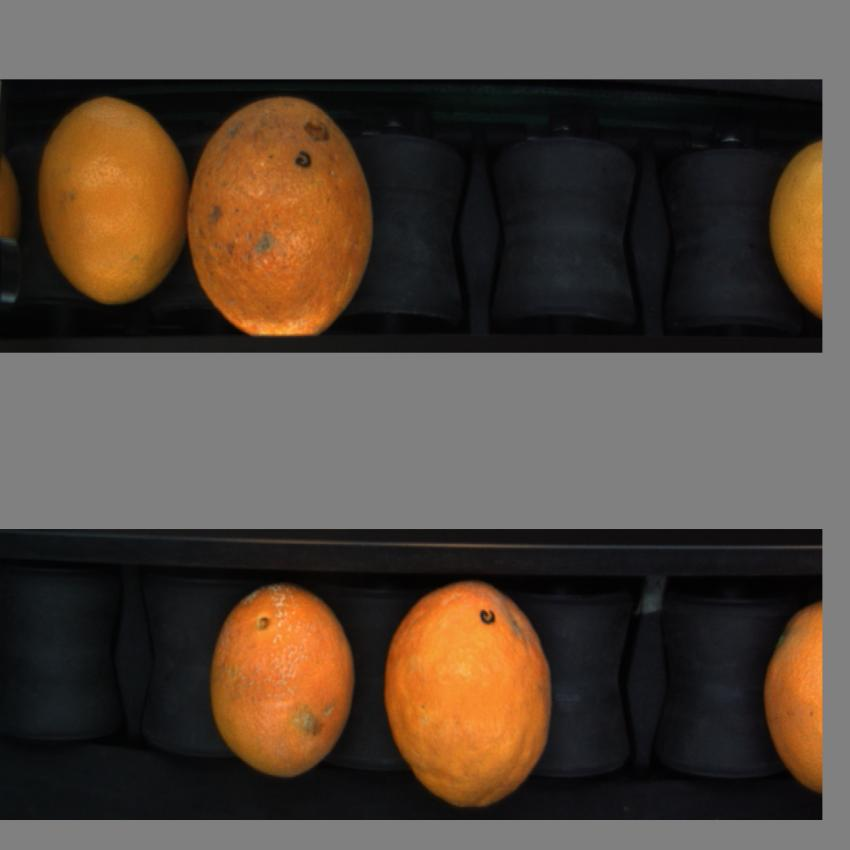Buen estado: (184, 91, 379, 345), (380, 578, 561, 806), (34, 96, 190, 317), (203, 578, 362, 782), (760, 594, 824, 808), (767, 134, 822, 330)
